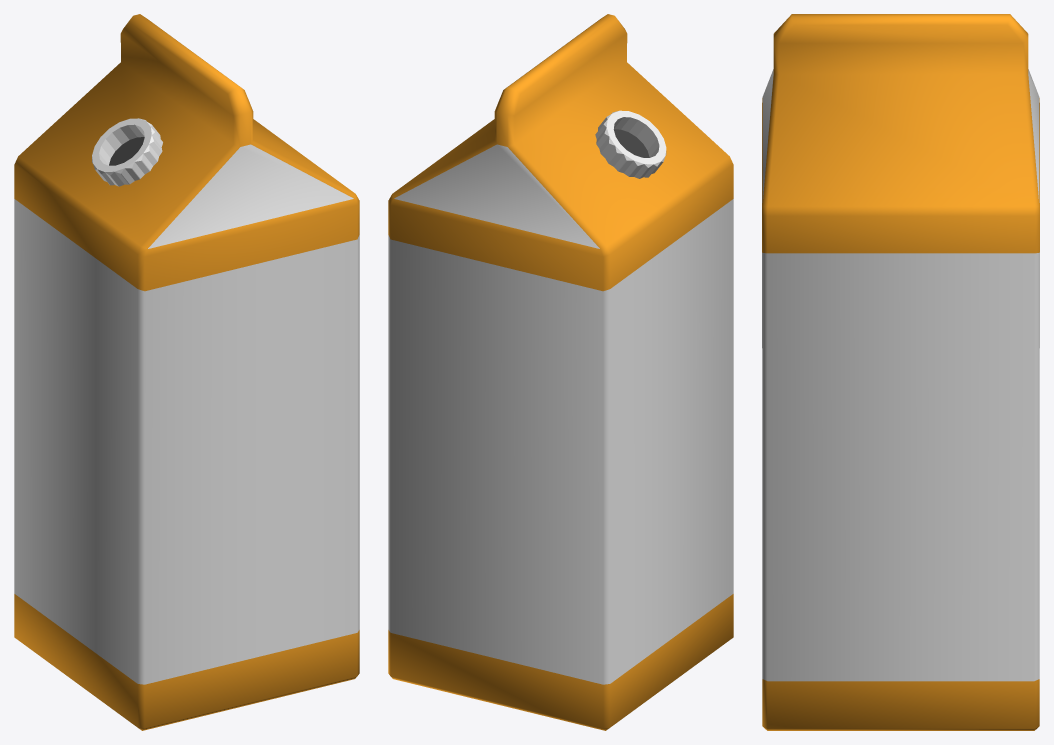
Rendered from MilkPack.fbx.
3 renders of one model, left to right at view 1: azimuth 30°, elevation 25°; view 2: azimuth 150°, elevation 25°; view 3: azimuth 270°, elevation 25°, orthographic. The views are drawn at different scales.
Visible parts, largest first — view 1: MilkPack; view 2: MilkPack; view 3: MilkPack.
Part boxes in pixels (x1,y1,x2,y2): MilkPack: (14,14,359,730); MilkPack: (388,14,733,730); MilkPack: (762,14,1039,730).
Bounding box in the file's own units: 4.2 × 11 × 4.2.
